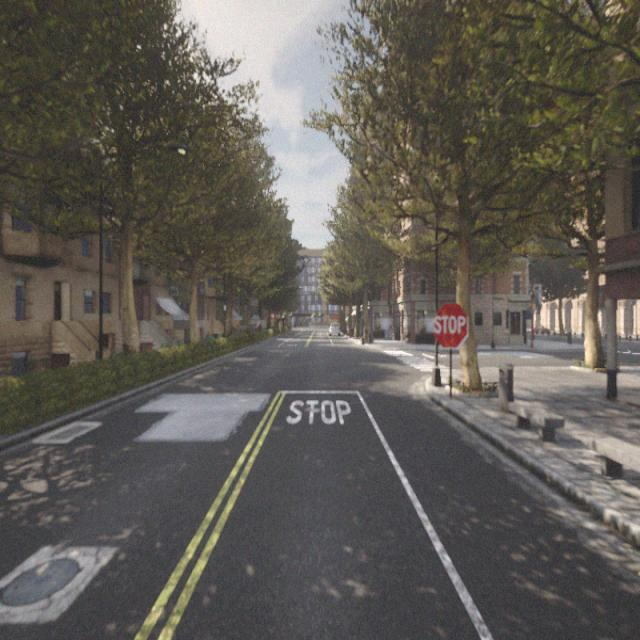stop sign: (430, 299, 470, 350), (433, 312, 466, 335)
